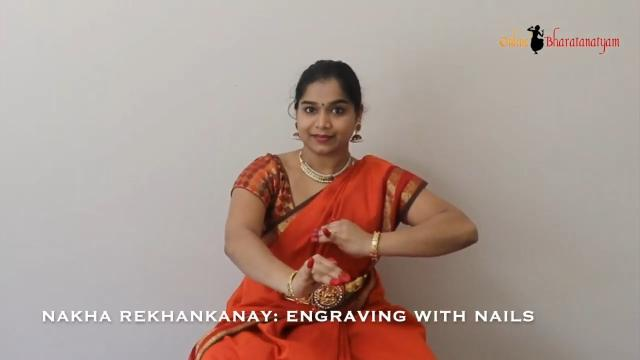Hamsapaksha: (304, 201, 382, 263), (293, 252, 359, 310)
